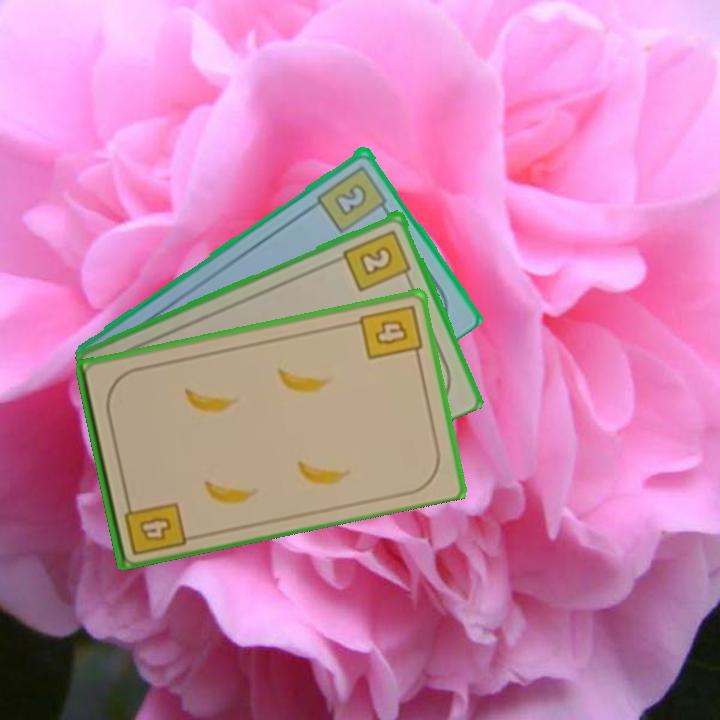2b: (314, 161, 393, 235), (340, 226, 414, 294)
4b: (120, 493, 188, 558), (356, 301, 425, 363)
